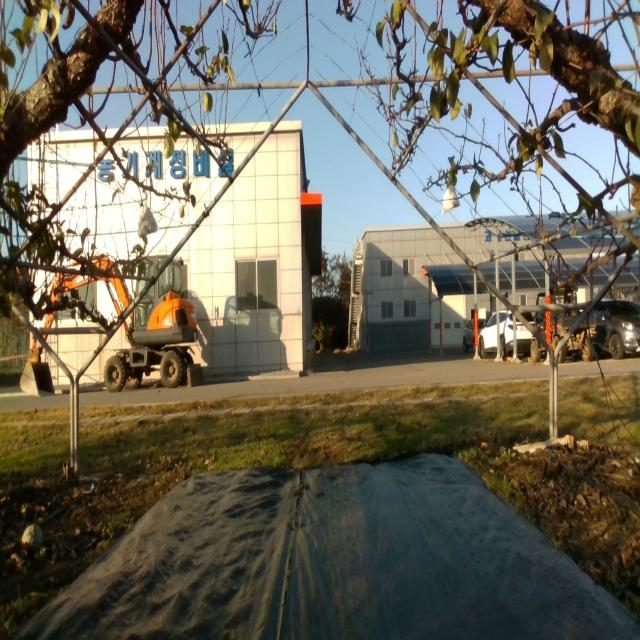pearbags: (138, 204, 159, 238), (442, 186, 460, 214)
